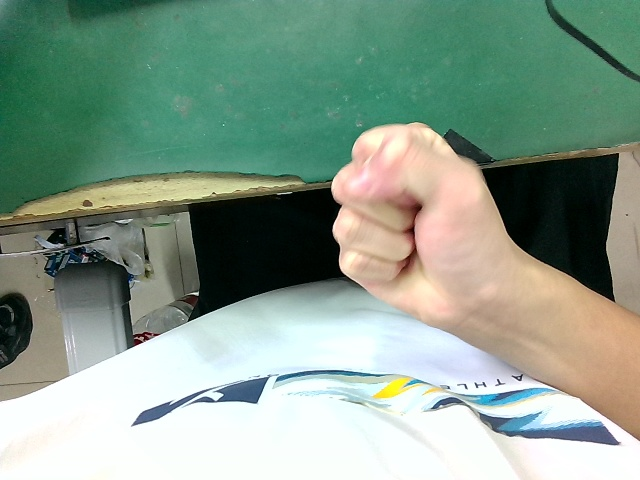stone: (321, 110, 518, 336)
